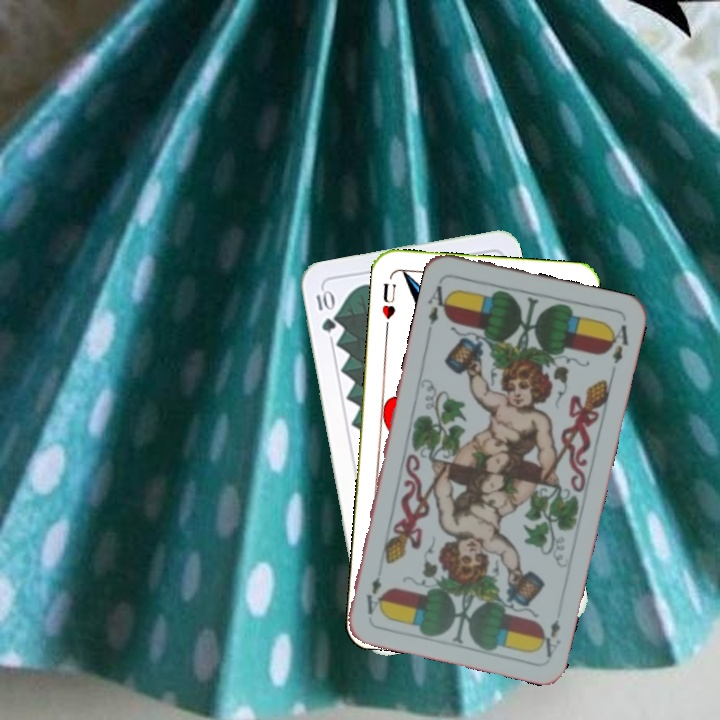EA: (423, 276, 455, 335), (534, 615, 563, 660)
G10: (312, 286, 338, 335)
HU: (377, 279, 399, 333)
